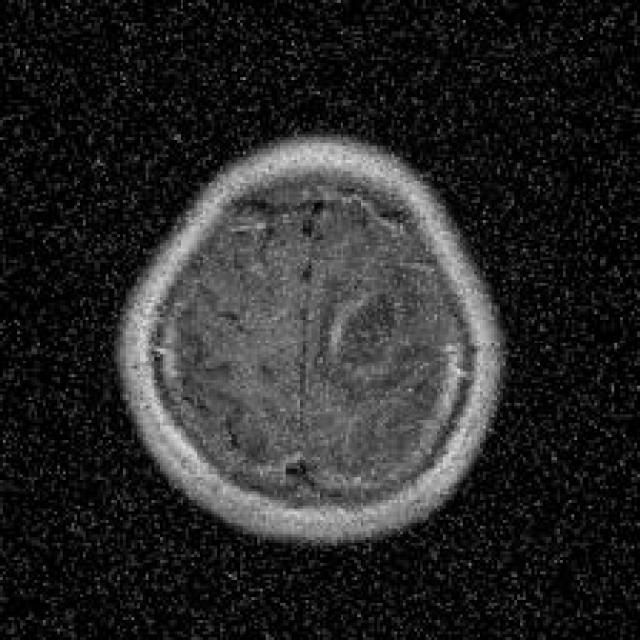glioma_tumor: (315, 263, 418, 403)
